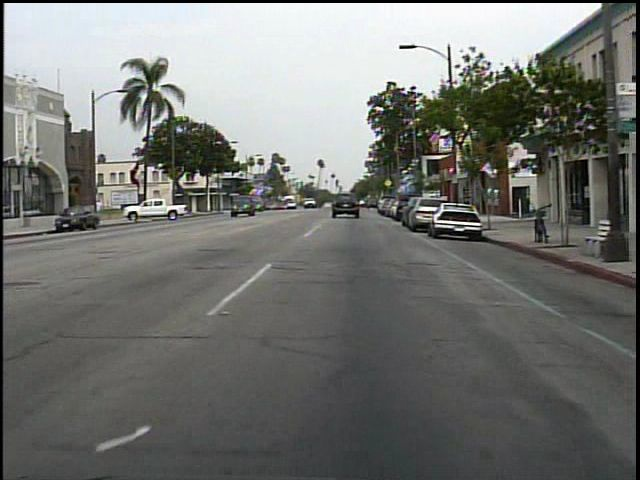person: (90, 196, 106, 224)
